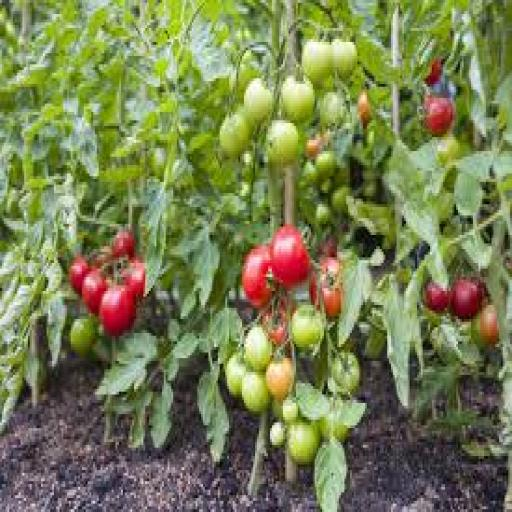tomato: (270, 224, 310, 288), (99, 286, 135, 335), (243, 247, 271, 307), (282, 76, 314, 123), (291, 305, 325, 349), (267, 121, 299, 167), (220, 112, 251, 159), (287, 420, 320, 464), (302, 40, 333, 86), (321, 258, 344, 318), (244, 325, 273, 372), (244, 79, 273, 125), (230, 54, 258, 100), (319, 401, 348, 442), (451, 277, 480, 318), (332, 353, 361, 394), (425, 96, 454, 137), (267, 359, 294, 402), (82, 269, 107, 313), (243, 373, 269, 414), (71, 317, 96, 358), (332, 40, 357, 78), (263, 305, 286, 346), (226, 353, 247, 397), (123, 258, 145, 299), (321, 93, 346, 128), (69, 255, 91, 293), (479, 305, 498, 346), (425, 283, 450, 313), (438, 135, 459, 165), (112, 230, 135, 257), (315, 152, 336, 181), (149, 146, 167, 179), (358, 90, 372, 125), (332, 185, 350, 212), (425, 59, 443, 86), (282, 398, 299, 425), (92, 247, 113, 268), (300, 163, 316, 187), (270, 423, 286, 447), (315, 202, 331, 226), (306, 135, 322, 159), (473, 277, 487, 304), (319, 236, 336, 257), (321, 180, 333, 195)
